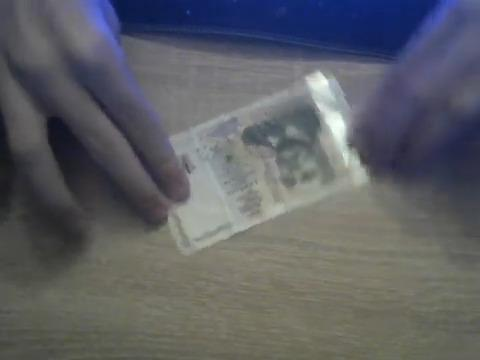10leva: (167, 71, 365, 256)
